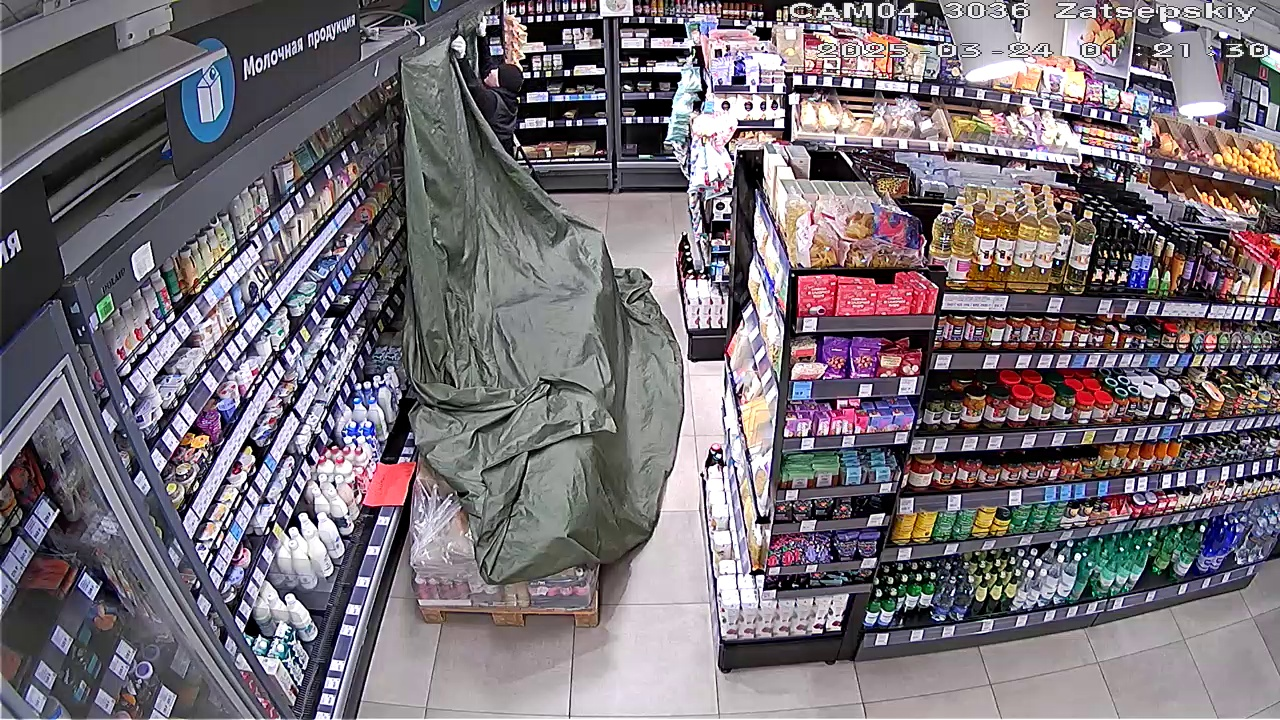Human: (446, 10, 528, 159)
dome: (390, 42, 691, 583)
